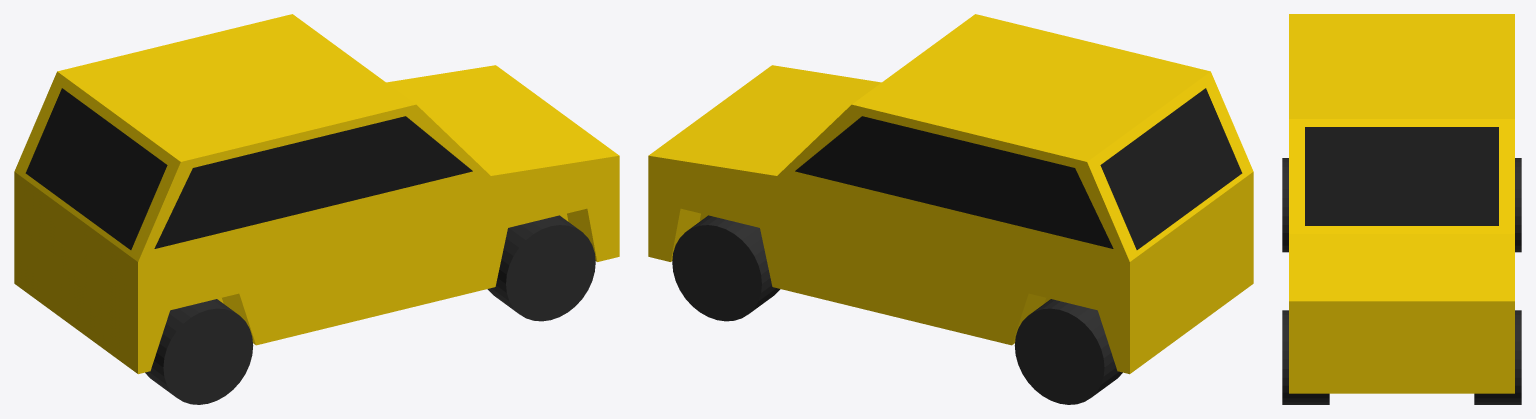
File: caryellow.glb
The picture shows the model from 3 angles, left to right: view 1: azimuth 30°, elevation 25°; view 2: azimuth 150°, elevation 25°; view 3: azimuth 270°, elevation 25°; orthographic projection. The views are drawn at different scales.
Visible parts, largest first — view 1: car_yellow; view 2: car_yellow; view 3: car_yellow.
Part boxes in pixels (<box>): car_yellow: <box>14,14,619,404</box>; car_yellow: <box>648,14,1253,404</box>; car_yellow: <box>1282,14,1521,404</box>.
Size of the model in its own units: 4.49 by 2.18 by 2.12.
